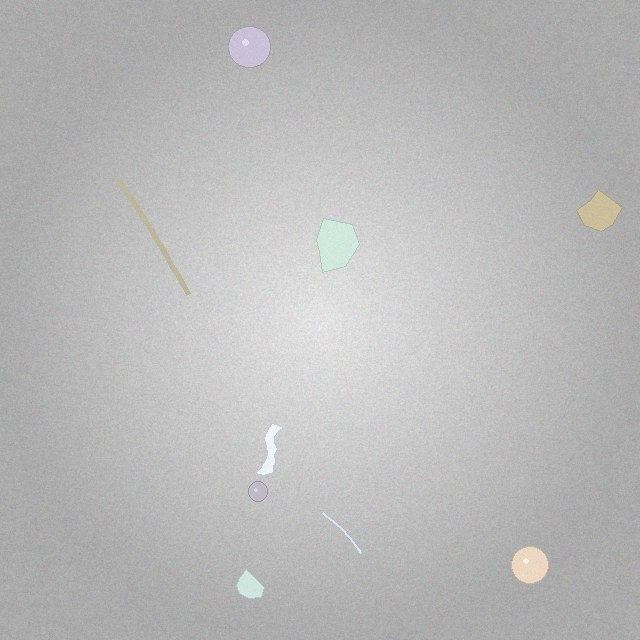fiber: (112, 173, 194, 300), (319, 510, 364, 556)
film: (255, 424, 283, 476)
fragment: (316, 219, 359, 273), (577, 189, 622, 232), (237, 570, 264, 599)
pellet: (229, 26, 270, 68), (511, 546, 548, 583), (248, 482, 267, 501)
